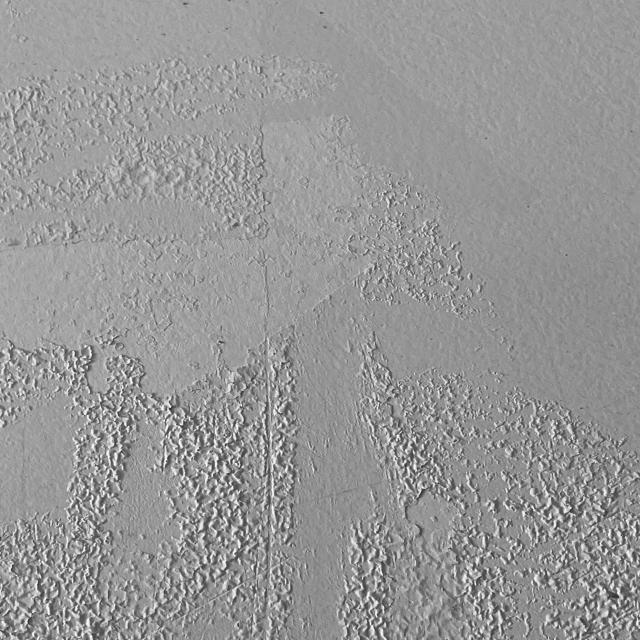rough and patchy surface: (0, 53, 498, 322), (337, 322, 640, 640), (0, 325, 298, 640), (0, 0, 36, 47)
